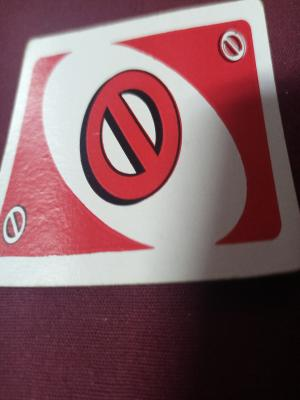skip: (71, 51, 187, 219), (0, 196, 33, 257), (215, 19, 248, 64)
